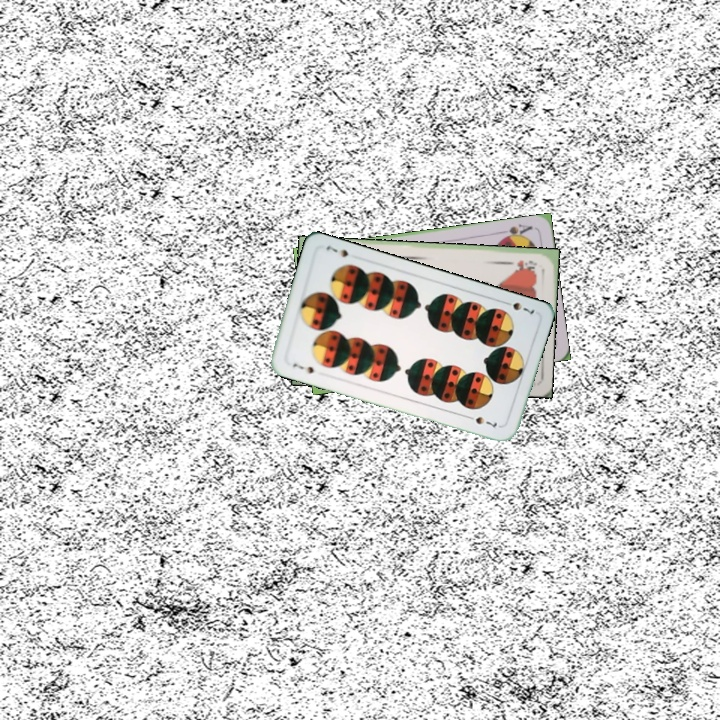HO: (501, 256, 539, 271)
S7: (499, 297, 537, 317), (289, 359, 316, 376)
SA: (496, 220, 535, 242)
